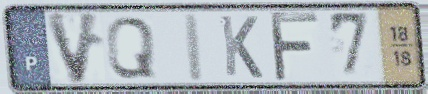7: (327, 10, 372, 82)
F: (267, 10, 322, 84)
I: (182, 10, 207, 84)
K: (218, 13, 266, 81)
Q: (104, 14, 158, 80)
V: (42, 10, 103, 88)
